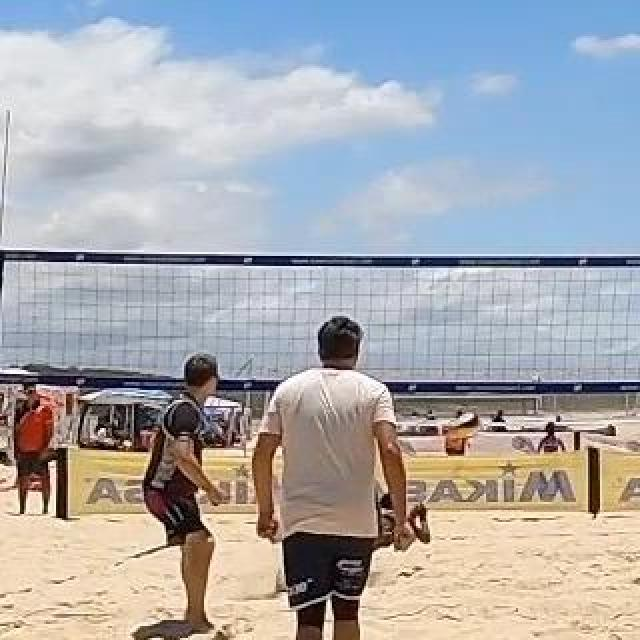volleyball: (454, 411, 480, 439)
